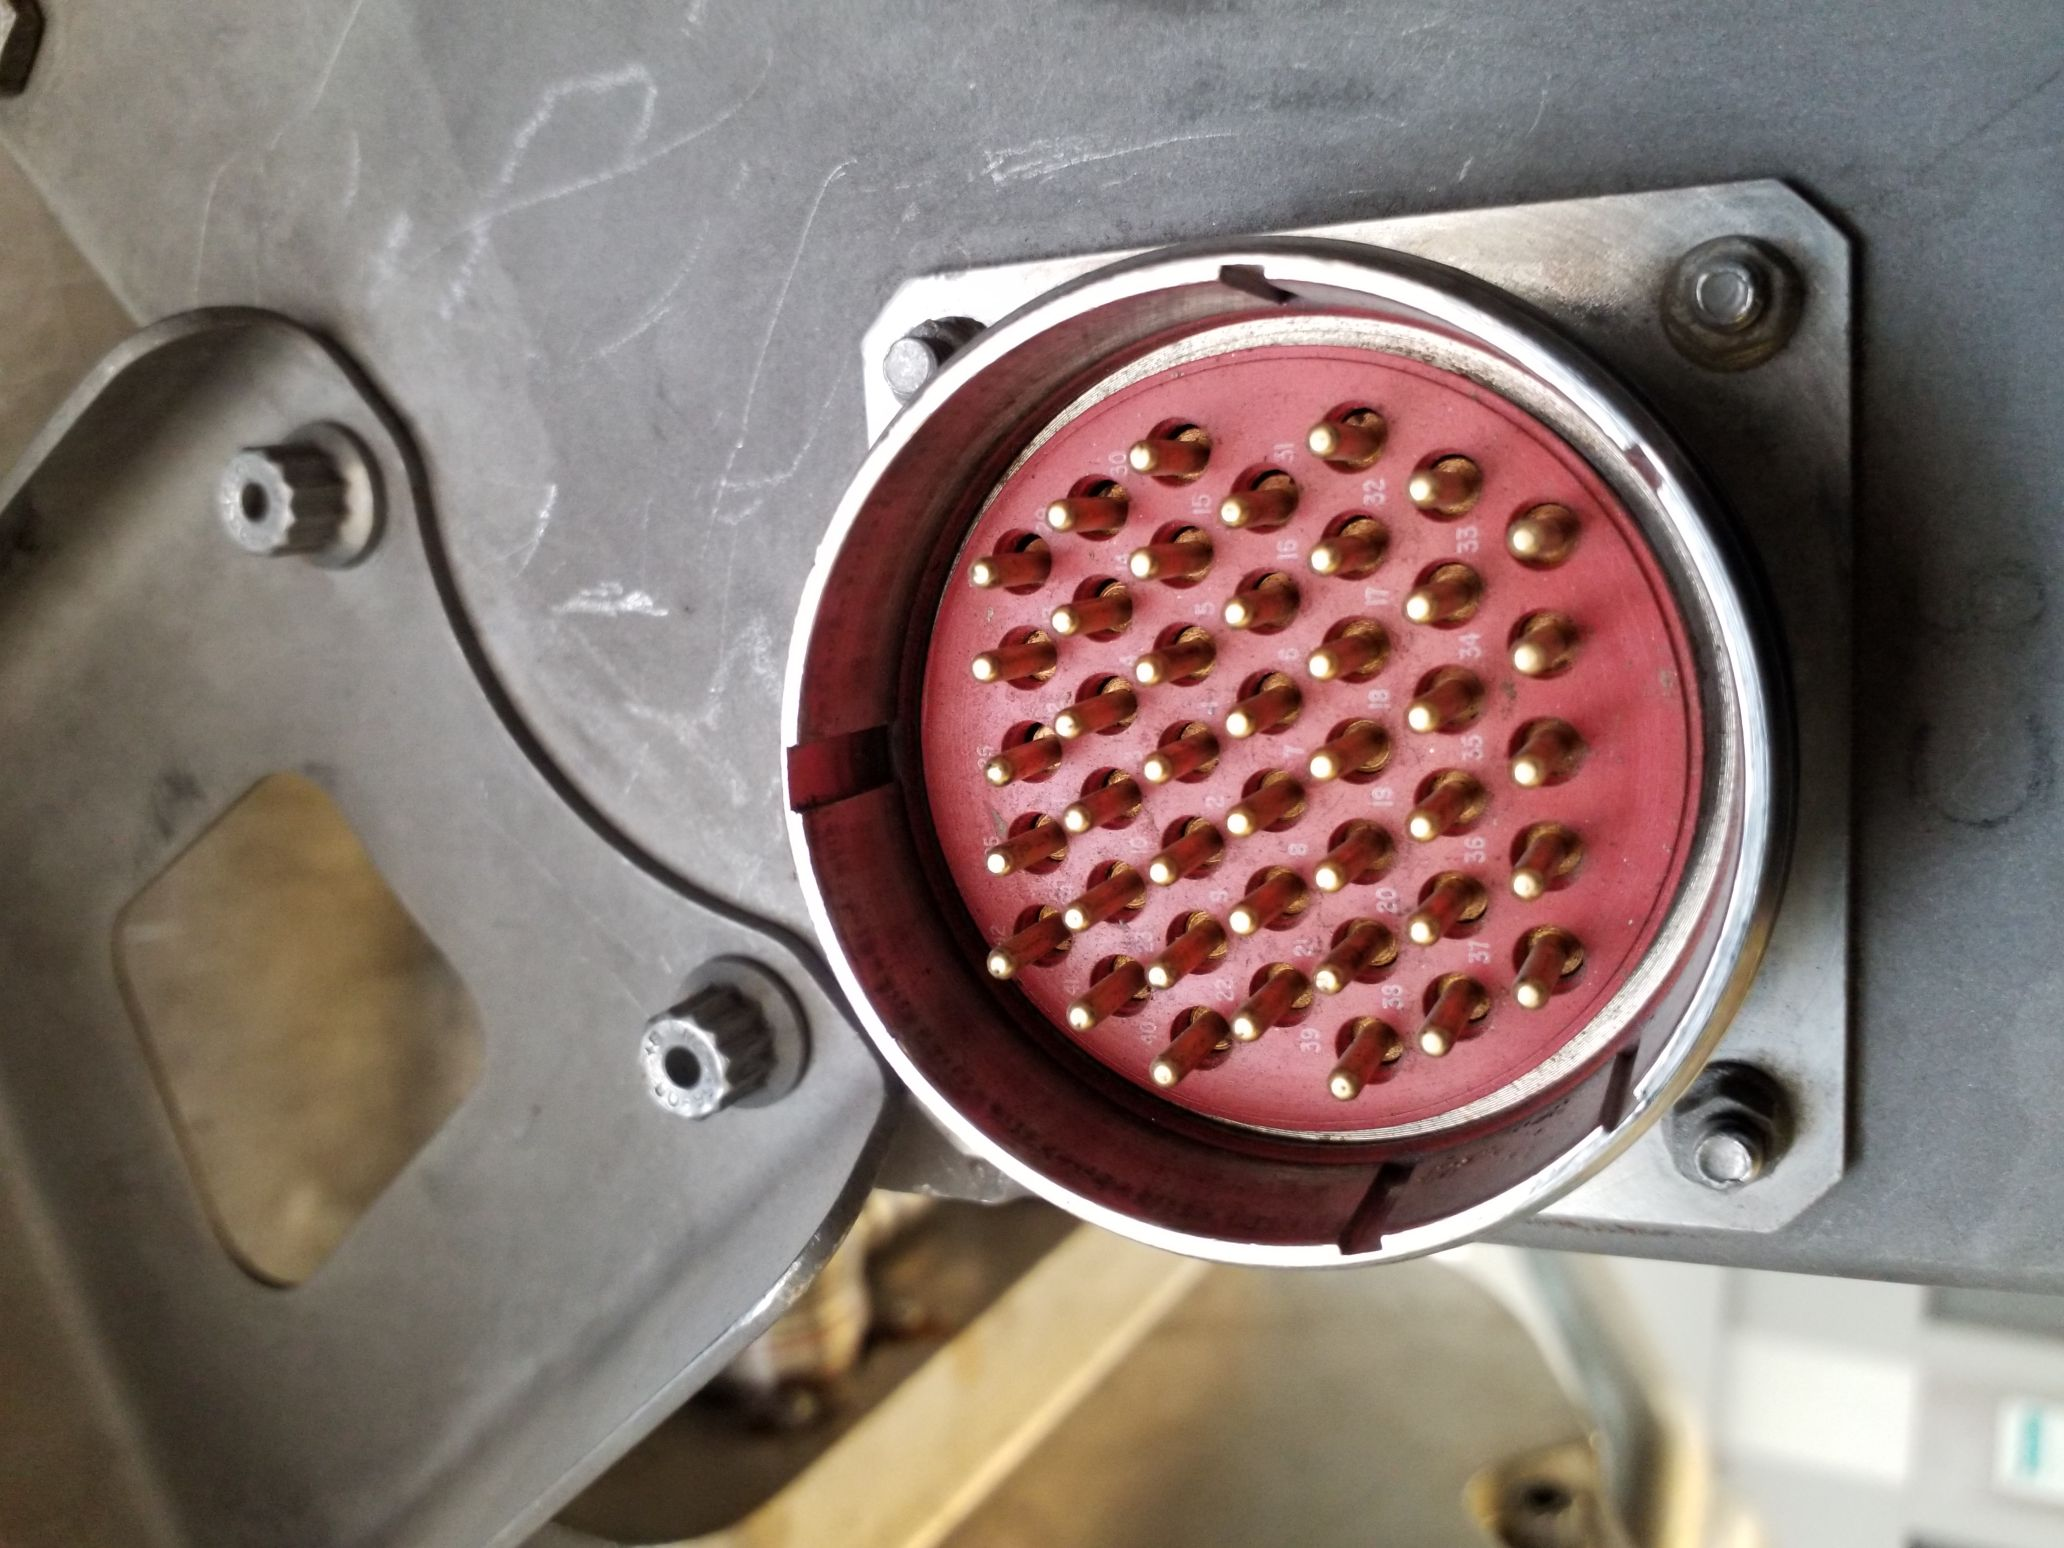outlet: (769, 229, 1827, 1259)
